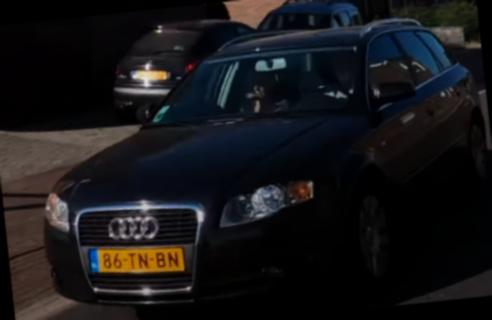license-plate: (87, 246, 188, 275)
